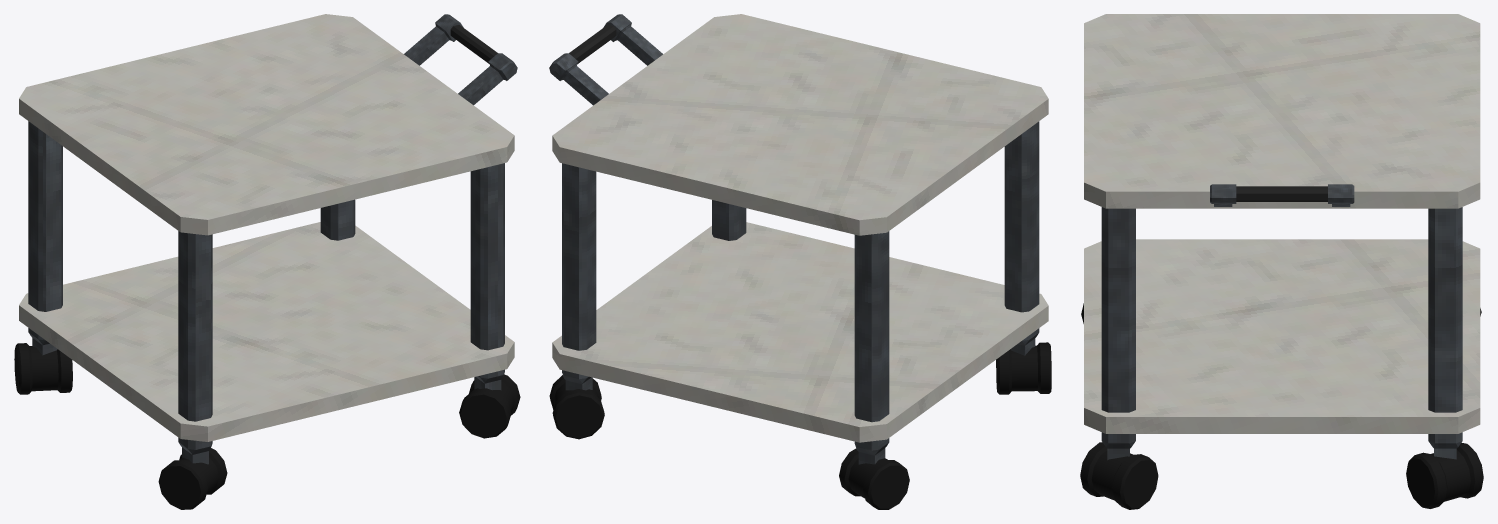
Rendered from trolley.glb.
The picture shows the model from 3 angles, left to right: view 1: azimuth 30°, elevation 25°; view 2: azimuth 150°, elevation 25°; view 3: azimuth 270°, elevation 25°; orthographic projection. The views are drawn at different scales.
Visible parts, largest first — view 1: Trolley; view 2: Trolley; view 3: Trolley.
Boxes of the visible parts, x1,y1,x2,y2 form: Trolley: (14,14,520,509); Trolley: (549,14,1051,509); Trolley: (1080,14,1483,509).
Bounding box in the file's own units: 0.4583 × 0.353 × 0.3692.
Materials: 4 (2 with a texture image).
